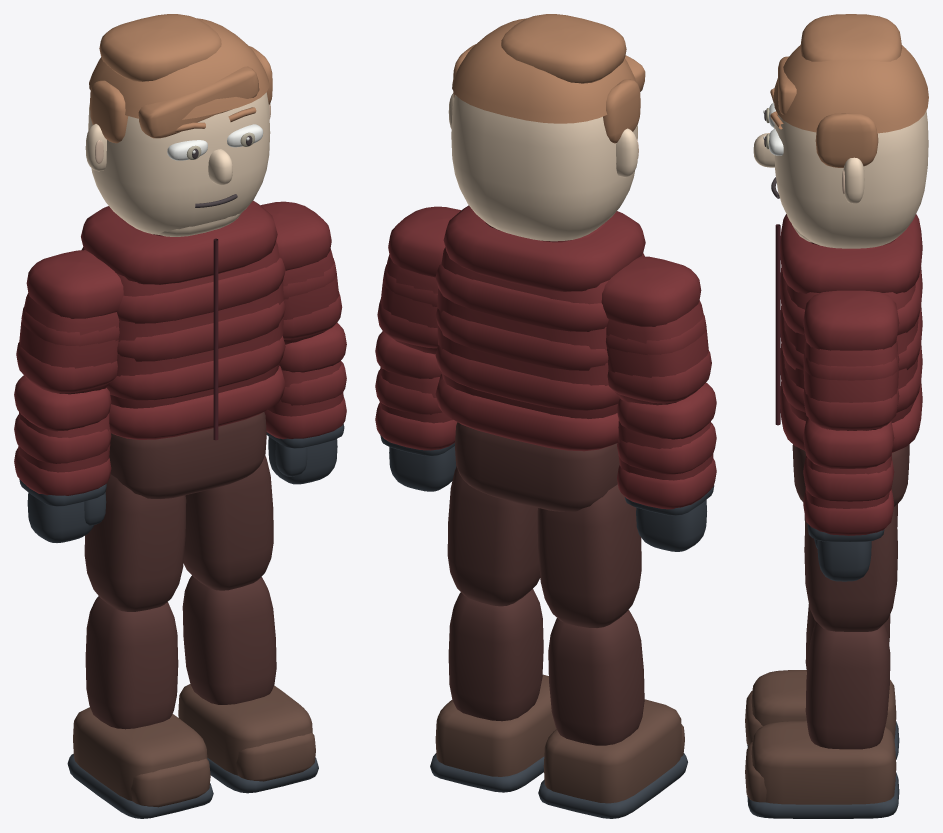
Rendered from james_brown_chapter1.glb.
3 renders of one model, left to right at view 1: azimuth 30°, elevation 25°; view 2: azimuth 150°, elevation 25°; view 3: azimuth 270°, elevation 25°, orthographic. The views are drawn at different scales.
Parts seen in each view (by area): view 1: Face, R shin, L shin, R thigh, Quilted body 4, Pants hips, L thigh, Puffer body, R foot boot, L foot boot, Swept crown, Hair cap (+35 smaller); view 2: Face, R thigh, R shin, L shin, Quilted body 4, Pants hips, L thigh, Hair cap, R foot boot, Puffer body, L foot boot, Swept crown (+26 smaller); view 3: Face, L shin, L foot boot, Hair cap, Quilted body 4, L thigh, L upperArm quilt 0, Swept crown, L upperArm, L lowerArm quilt 0, R foot boot, Sideburn 1 (+21 smaller).
Boxes of the visible parts, x1=… form: Face: x1=88, y1=92, x2=270, y2=234; R shin: x1=85, y1=596, x2=178, y2=729; L shin: x1=182, y1=575, x2=276, y2=704; R thigh: x1=84, y1=474, x2=186, y2=611; Quilted body 4: x1=81, y1=200, x2=277, y2=284; Pants hips: x1=109, y1=412, x2=266, y2=498; L thigh: x1=183, y1=455, x2=273, y2=590; Puffer body: x1=81, y1=217, x2=283, y2=408; R foot boot: x1=73, y1=707, x2=207, y2=801; L foot boot: x1=178, y1=684, x2=312, y2=775; Swept crown: x1=99, y1=14, x2=221, y2=81; Hair cap: x1=89, y1=18, x2=269, y2=119; Face: x1=451, y1=95, x2=637, y2=241; R thigh: x1=537, y1=484, x2=641, y2=627; R shin: x1=548, y1=610, x2=644, y2=745; L shin: x1=448, y1=589, x2=543, y2=721; Quilted body 4: x1=443, y1=205, x2=645, y2=291; Pants hips: x1=455, y1=422, x2=619, y2=511; L thigh: x1=447, y1=467, x2=540, y2=606; Hair cap: x1=452, y1=18, x2=636, y2=123; R foot boot: x1=543, y1=699, x2=681, y2=803; Puffer body: x1=437, y1=223, x2=644, y2=418; L foot boot: x1=435, y1=674, x2=556, y2=776; Swept crown: x1=501, y1=14, x2=626, y2=83; Face: x1=774, y1=110, x2=928, y2=248; L shin: x1=805, y1=622, x2=890, y2=749; L foot boot: x1=751, y1=721, x2=896, y2=804; Hair cap: x1=773, y1=45, x2=928, y2=133; Quilted body 4: x1=780, y1=214, x2=922, y2=293; L thigh: x1=804, y1=506, x2=897, y2=631; L upperArm quilt 0: x1=803, y1=290, x2=899, y2=350; Swept crown: x1=800, y1=14, x2=902, y2=61; L upperArm: x1=803, y1=339, x2=898, y2=430; L lowerArm quilt 0: x1=803, y1=418, x2=894, y2=468; R foot boot: x1=751, y1=670, x2=896, y2=738; Sideburn 1: x1=815, y1=113, x2=878, y2=167.
Bounding box in the file's own units: 0.858 × 1.94 × 0.4398.
